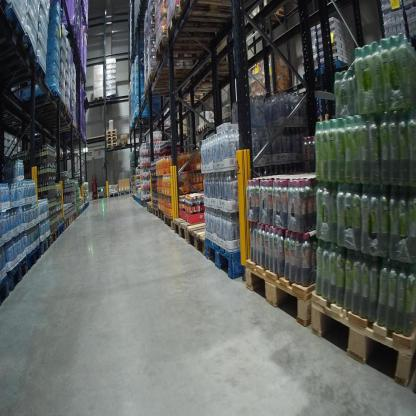pallet: (306, 288, 415, 387), (244, 254, 329, 332), (206, 227, 271, 279), (165, 15, 235, 51), (153, 36, 217, 68), (187, 221, 237, 260), (173, 1, 241, 25), (4, 31, 39, 71), (1, 5, 30, 47), (174, 214, 212, 244), (14, 91, 62, 114), (200, 60, 243, 84), (5, 65, 45, 90), (144, 79, 192, 97), (321, 59, 358, 82), (250, 11, 293, 30), (5, 257, 28, 291), (145, 71, 192, 87), (29, 107, 72, 122), (24, 241, 42, 272), (173, 94, 208, 109), (164, 206, 184, 231), (42, 122, 78, 133), (37, 235, 52, 255), (2, 277, 11, 307), (44, 228, 60, 244), (325, 108, 338, 126), (310, 113, 325, 126), (55, 223, 66, 238), (204, 119, 217, 131), (151, 204, 160, 220), (158, 207, 165, 225), (147, 202, 155, 216), (119, 138, 130, 148), (107, 92, 119, 101), (62, 219, 71, 230), (92, 94, 103, 103), (106, 128, 118, 135), (70, 212, 77, 223), (118, 190, 130, 196), (199, 124, 205, 135), (108, 191, 118, 197), (106, 137, 118, 142), (106, 134, 118, 139), (68, 214, 73, 225), (195, 129, 201, 137), (107, 145, 118, 148), (107, 142, 118, 145)
